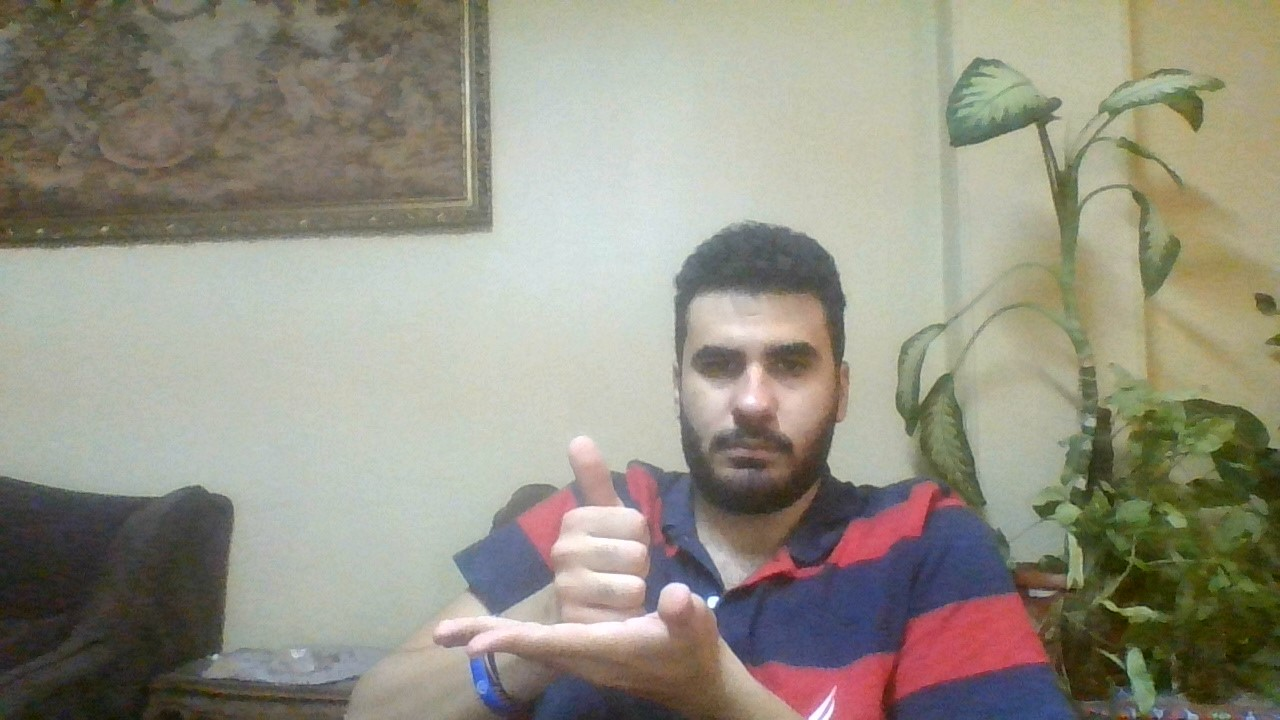help: (447, 427, 727, 684)
